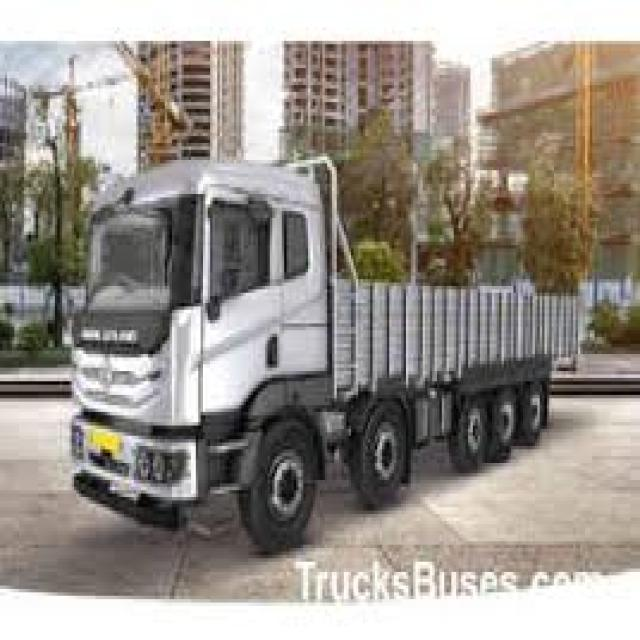uncovered: (72, 150, 570, 544)
